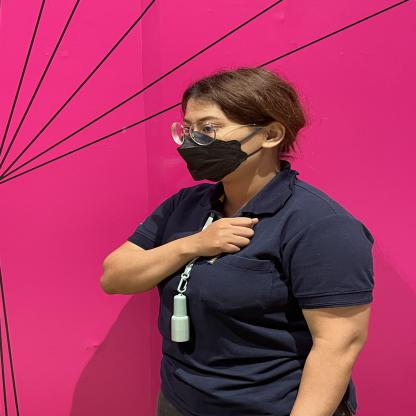Sadness: (98, 200, 285, 317)
